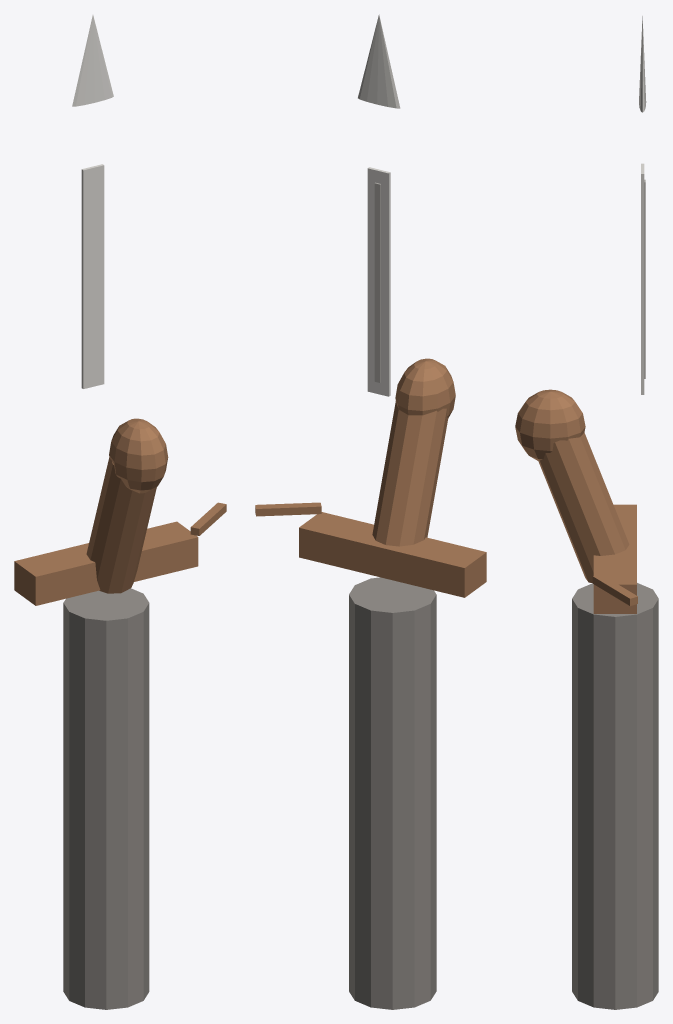
File: keris.fbx
The picture shows the model from 3 angles, left to right: view 1: azimuth 30°, elevation 25°; view 2: azimuth 150°, elevation 25°; view 3: azimuth 270°, elevation 25°; orthographic projection. The views are drawn at different scales.
Visible parts, largest first — view 1: Pillar, Warangka, Hulu, Blade, Hulu_Head, Blade_Tip, Warangka_Tip; view 2: Pillar, Warangka, Hulu, Blade, Hulu_Head, Blade_Tip, Pamor, Warangka_Tip; view 3: Pillar, Hulu, Hulu_Head, Warangka, Blade, Warangka_Tip, Blade_Tip, Pamor.
Boxes of the visible parts, x1,y1,x2,y2 form: Pillar: (63,588,149,1009); Warangka: (14,521,198,605); Hulu: (86,458,156,593); Blade: (81,164,104,388); Hulu_Head: (109,418,168,493); Blade_Tip: (72,15,113,106); Warangka_Tip: (190,502,226,535); Pillar: (349,577,436,1009); Warangka: (299,512,486,597); Hulu: (372,401,448,546); Blade: (367,167,390,396); Hulu_Head: (395,358,455,417); Blade_Tip: (358,14,400,108); Pamor: (374,182,380,382); Warangka_Tip: (255,502,321,516); Pillar: (572,583,658,1009); Hulu: (538,432,629,582); Hulu_Head: (515,389,585,461); Warangka: (593,504,636,613); Blade: (641,163,644,394); Warangka_Tip: (592,574,637,605); Blade_Tip: (639,16,646,112); Pamor: (644,179,645,378).
Bounding box in the file's own units: 44.93 × 199 × 26.5.
